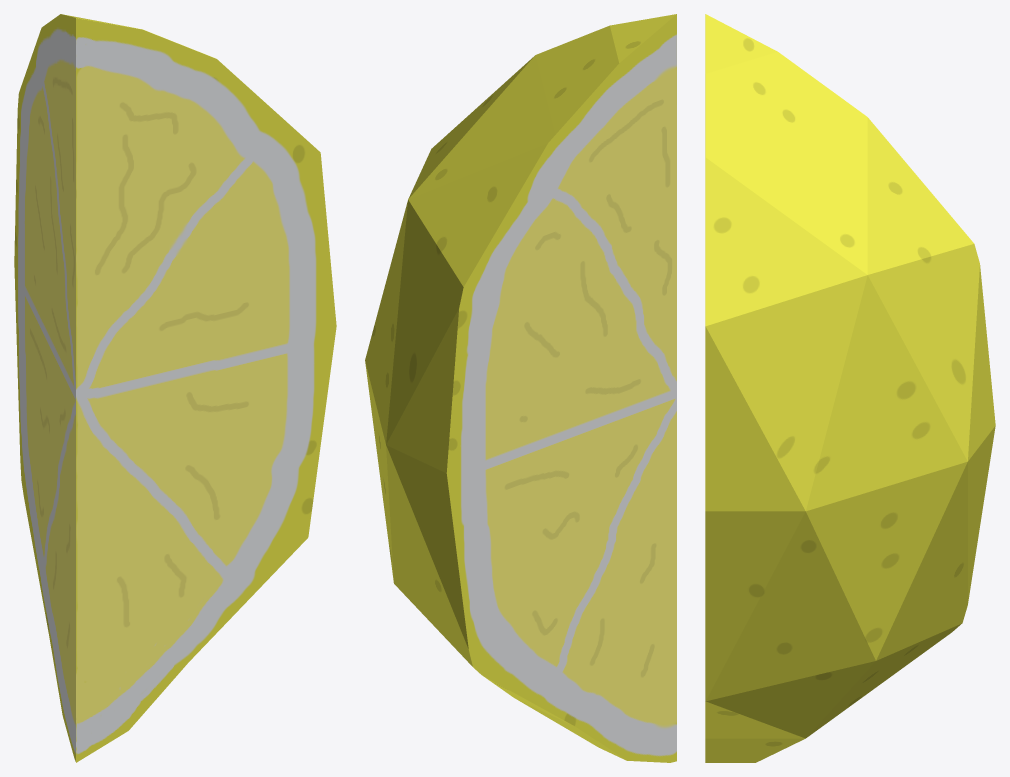
Rendered from LemonSLICE.fbx.
The picture shows the model from 3 angles, left to right: view 1: azimuth 30°, elevation 25°; view 2: azimuth 150°, elevation 25°; view 3: azimuth 270°, elevation 25°; orthographic projection.
Parts seen in each view (by area): view 1: LEMON SLICE; view 2: LEMON SLICE; view 3: LEMON SLICE.
Boxes of the visible parts, x1=… form: LEMON SLICE: x1=14, y1=14, x2=336, y2=762; LEMON SLICE: x1=365, y1=14, x2=676, y2=762; LEMON SLICE: x1=705, y1=14, x2=995, y2=762.
Bounding box in the file's own units: 92.53 × 253 × 89.6.
1 material, 1 textured.
